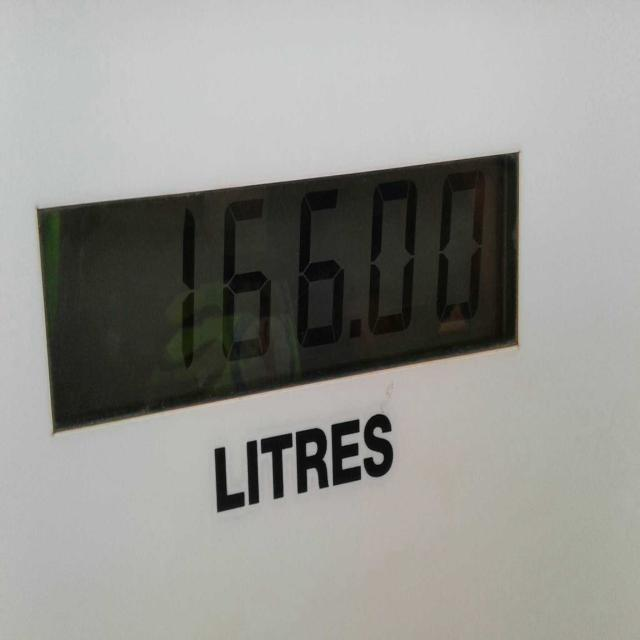.: (344, 310, 362, 355)
0: (432, 168, 500, 344), (362, 174, 429, 352)
1: (166, 203, 202, 395)
6: (216, 192, 289, 383), (287, 183, 353, 380)
